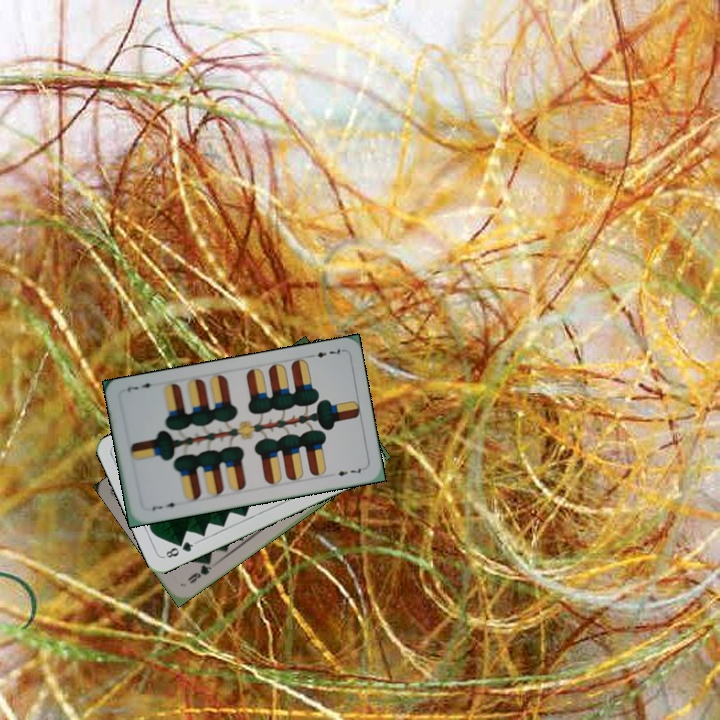E7: (305, 345, 345, 360), (148, 499, 182, 513)
G8: (160, 537, 198, 561)
G9: (183, 556, 214, 586)
